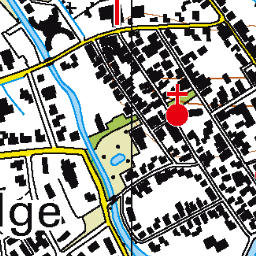church: (162, 82, 193, 128)
